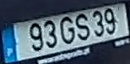3: (42, 19, 58, 48), (91, 9, 105, 37)
9: (28, 21, 44, 52), (103, 7, 116, 35)
G: (58, 15, 75, 45)
S: (74, 12, 90, 41)
